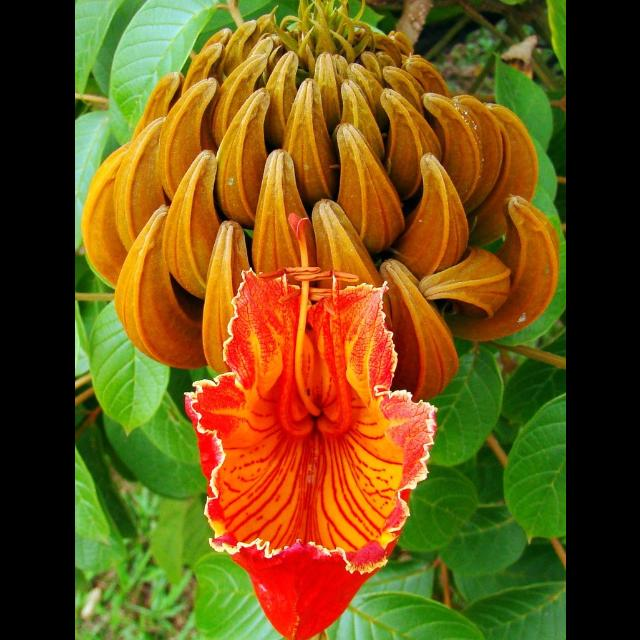Flower: (181, 208, 437, 638)
